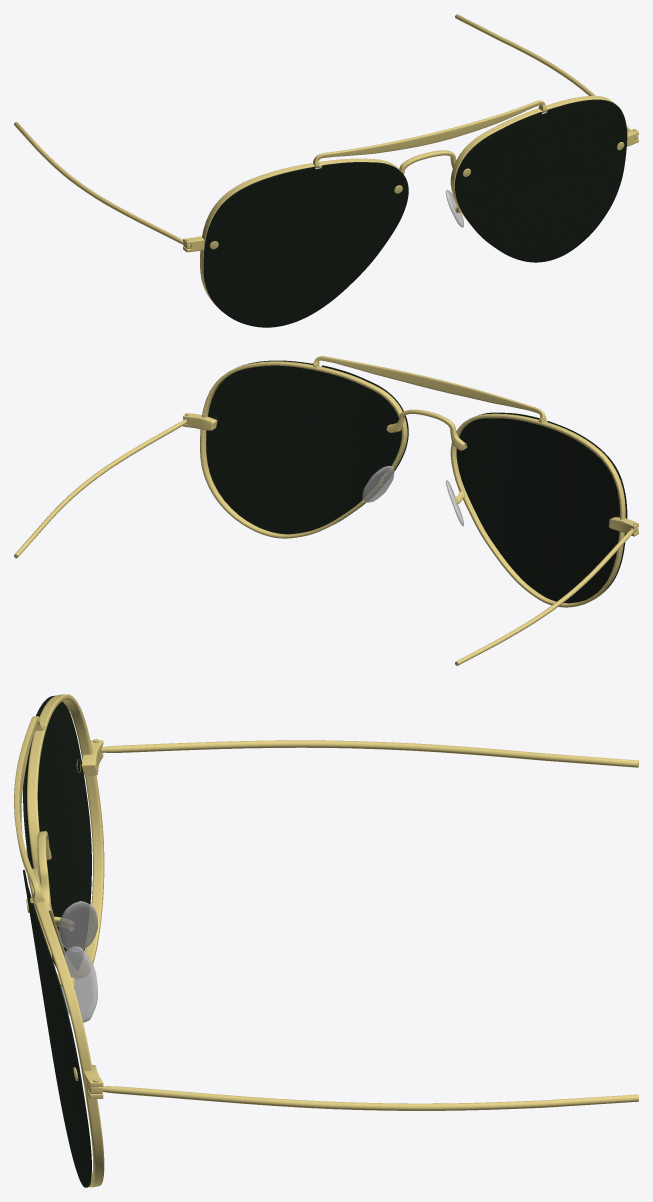
Rendered from blazenovo.glb.
The picture shows the model from 3 angles, top to bottom: view 1: azimuth 30°, elevation 25°; view 2: azimuth 150°, elevation 25°; view 3: azimuth 270°, elevation 25°; orthographic projection. The views are drawn at different scales.
Parts seen in each view (by area): view 1: armacao; view 2: armacao; view 3: armacao.
Part boxes in pixels (bbox=[...]): armacao: bbox=[14, 14, 638, 327]; armacao: bbox=[14, 356, 638, 665]; armacao: bbox=[14, 694, 638, 1187].
Bounding box in the file's own units: 0.163 × 0.057 × 0.1181.
Materials: 3 (3 with a texture image).
